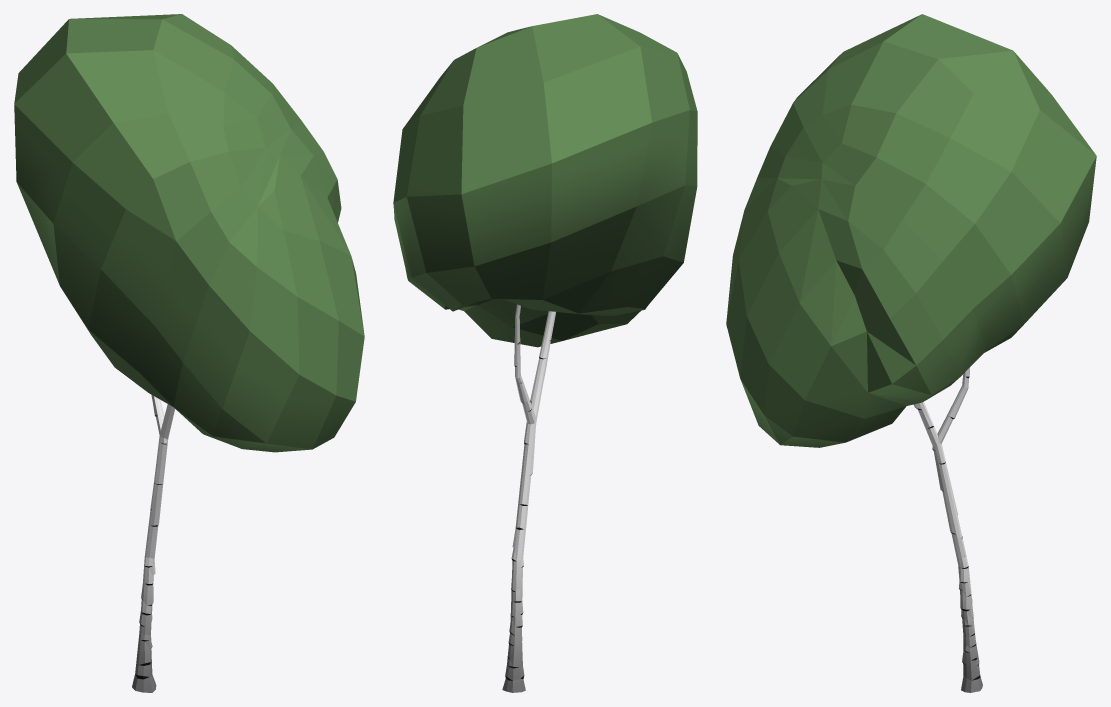
Rendered from TreeBirch-06.FBX.
3 renders of one model, left to right at view 1: azimuth 30°, elevation 25°; view 2: azimuth 150°, elevation 25°; view 3: azimuth 270°, elevation 25°, orthographic. The views are drawn at different scales.
Visible parts, largest first — view 1: TreeBirch-06; view 2: TreeBirch-06; view 3: TreeBirch-06.
Boxes of the visible parts, x1,y1,x2,y2 form: TreeBirch-06: [14, 14, 364, 692]; TreeBirch-06: [393, 14, 697, 692]; TreeBirch-06: [726, 14, 1096, 692].
Size of the model in its own units: 372 by 839 by 447.
1 material, 1 textured.
